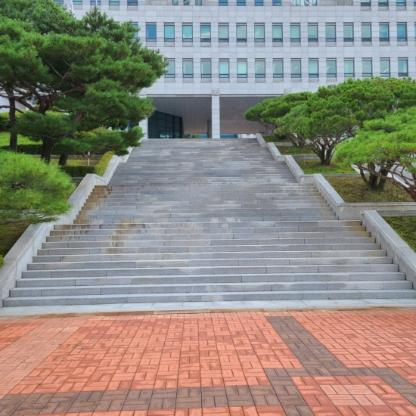stair: (83, 121, 266, 331)
